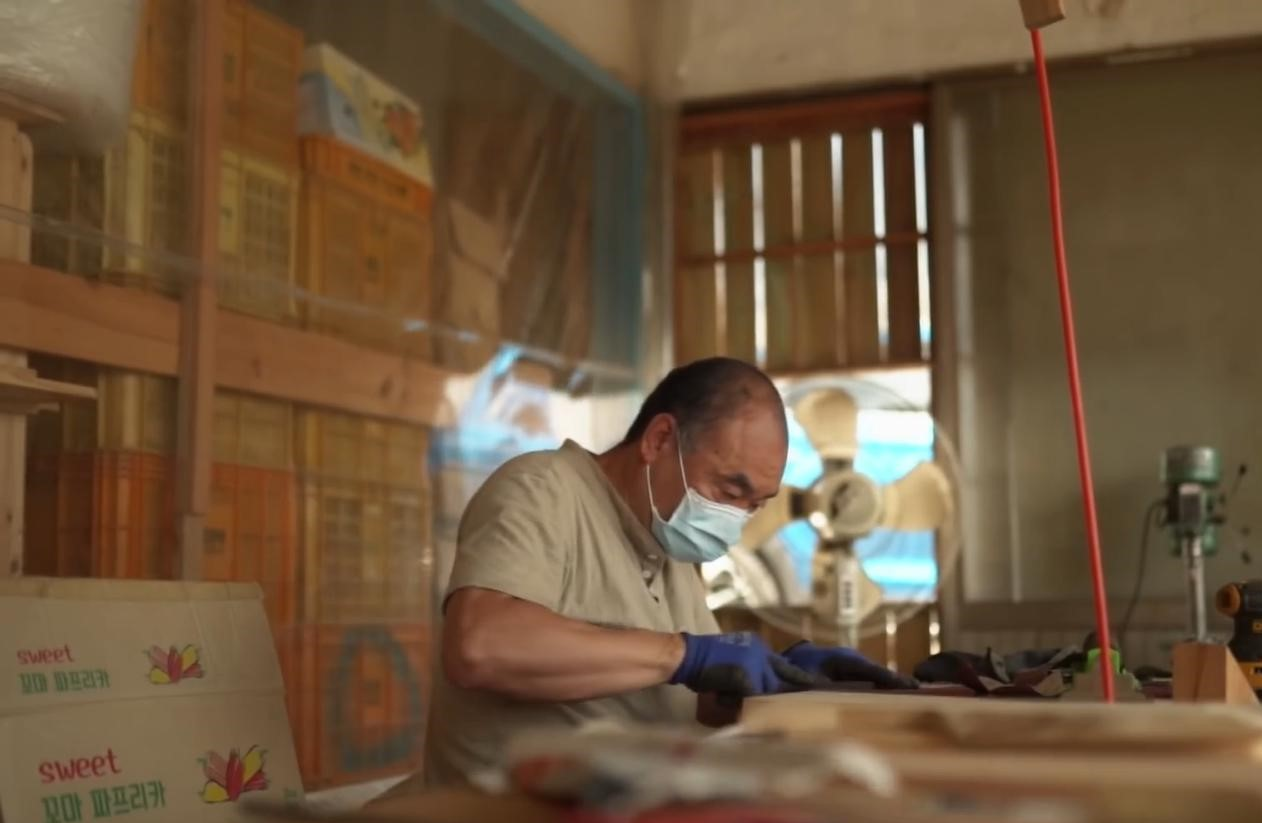with_mask: (656, 458, 756, 559)
